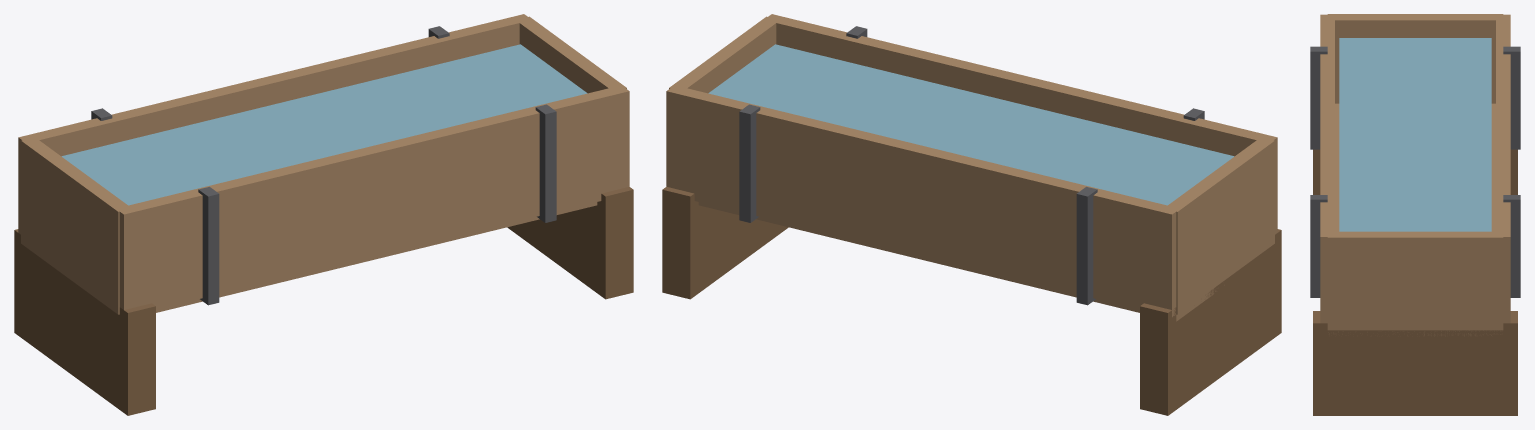
Rendered from SM_Water_Trough.glb.
3 views of the same model, side by side, from view 1: azimuth 30°, elevation 25°; view 2: azimuth 150°, elevation 25°; view 3: azimuth 270°, elevation 25° (orthographic). The views are drawn at different scales.
Visible parts, largest first — view 1: SM_Water_Trough; view 2: SM_Water_Trough; view 3: SM_Water_Trough.
Boxes of the visible parts, x1,y1,x2,y2 form: SM_Water_Trough: (14,14,633,415); SM_Water_Trough: (662,14,1281,415); SM_Water_Trough: (1310,14,1520,415).
Bounding box in the file's own units: 1.81 × 0.685 × 0.72.
